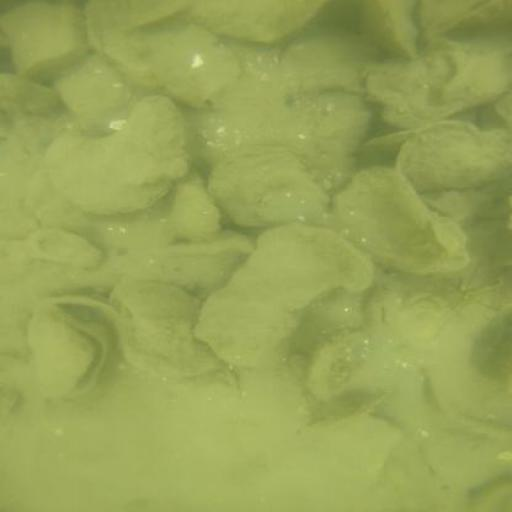Oyster-Closed: (69, 94, 190, 218)
Oyster-Open: (417, 40, 511, 113), (28, 317, 106, 404)
